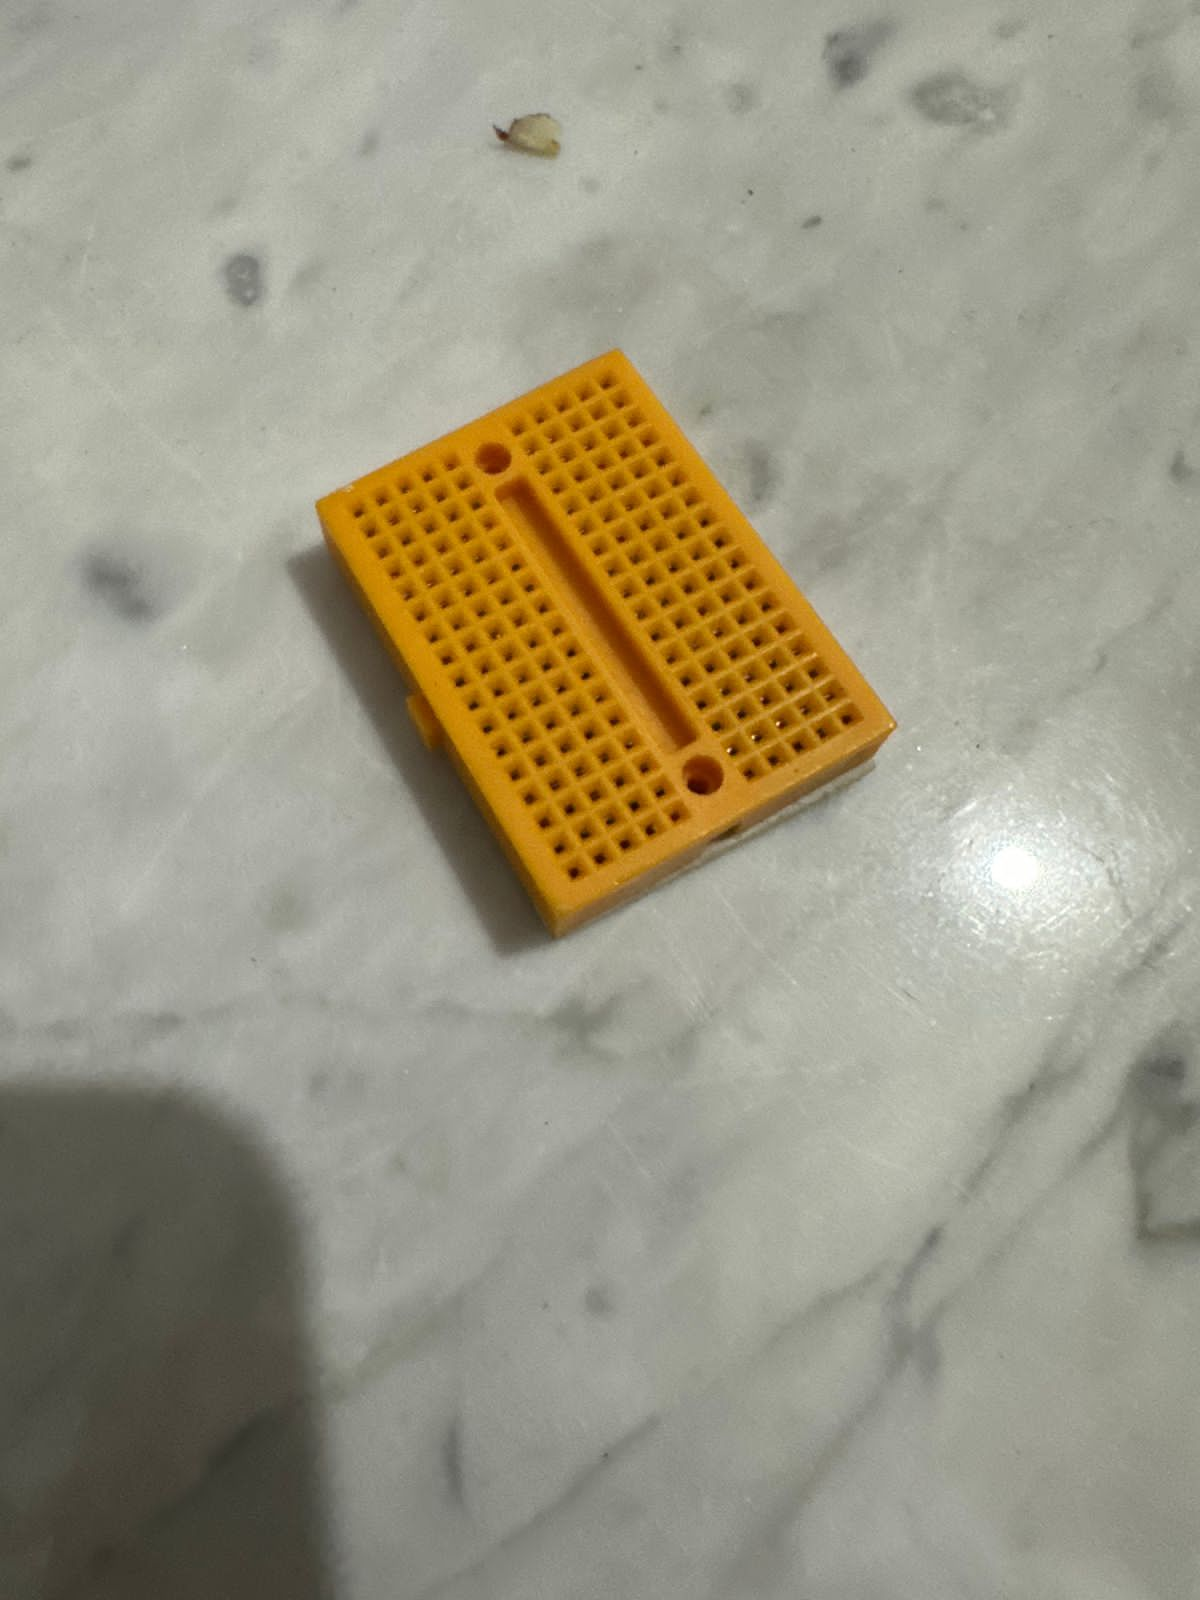breadboard: (319, 340, 900, 950)
